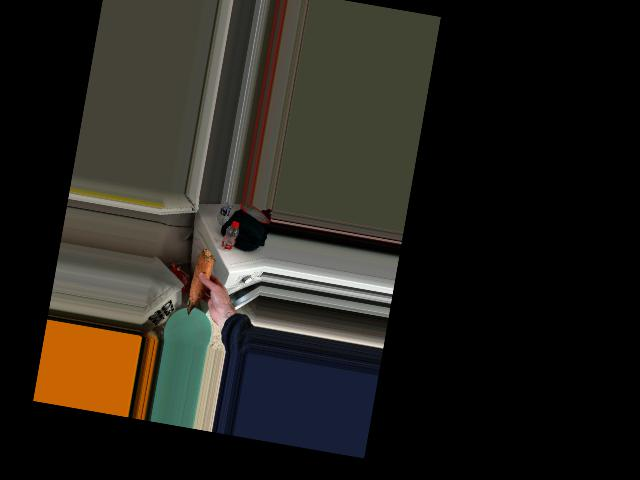sweet_potato: (186, 251, 214, 316)
